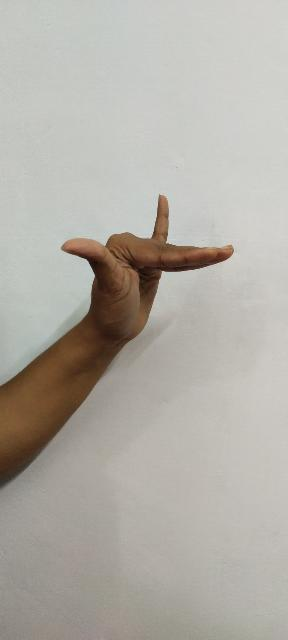mrighasheesh: (37, 190, 241, 350)
